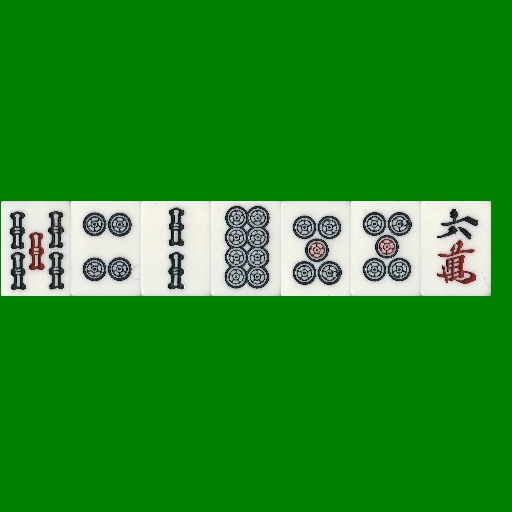2s: (141, 201, 211, 296)
4p: (71, 201, 141, 296)
5p: (281, 201, 351, 296), (351, 201, 421, 296)
5s: (1, 201, 71, 296)
6m: (421, 201, 491, 296)
8p: (211, 201, 281, 296)
